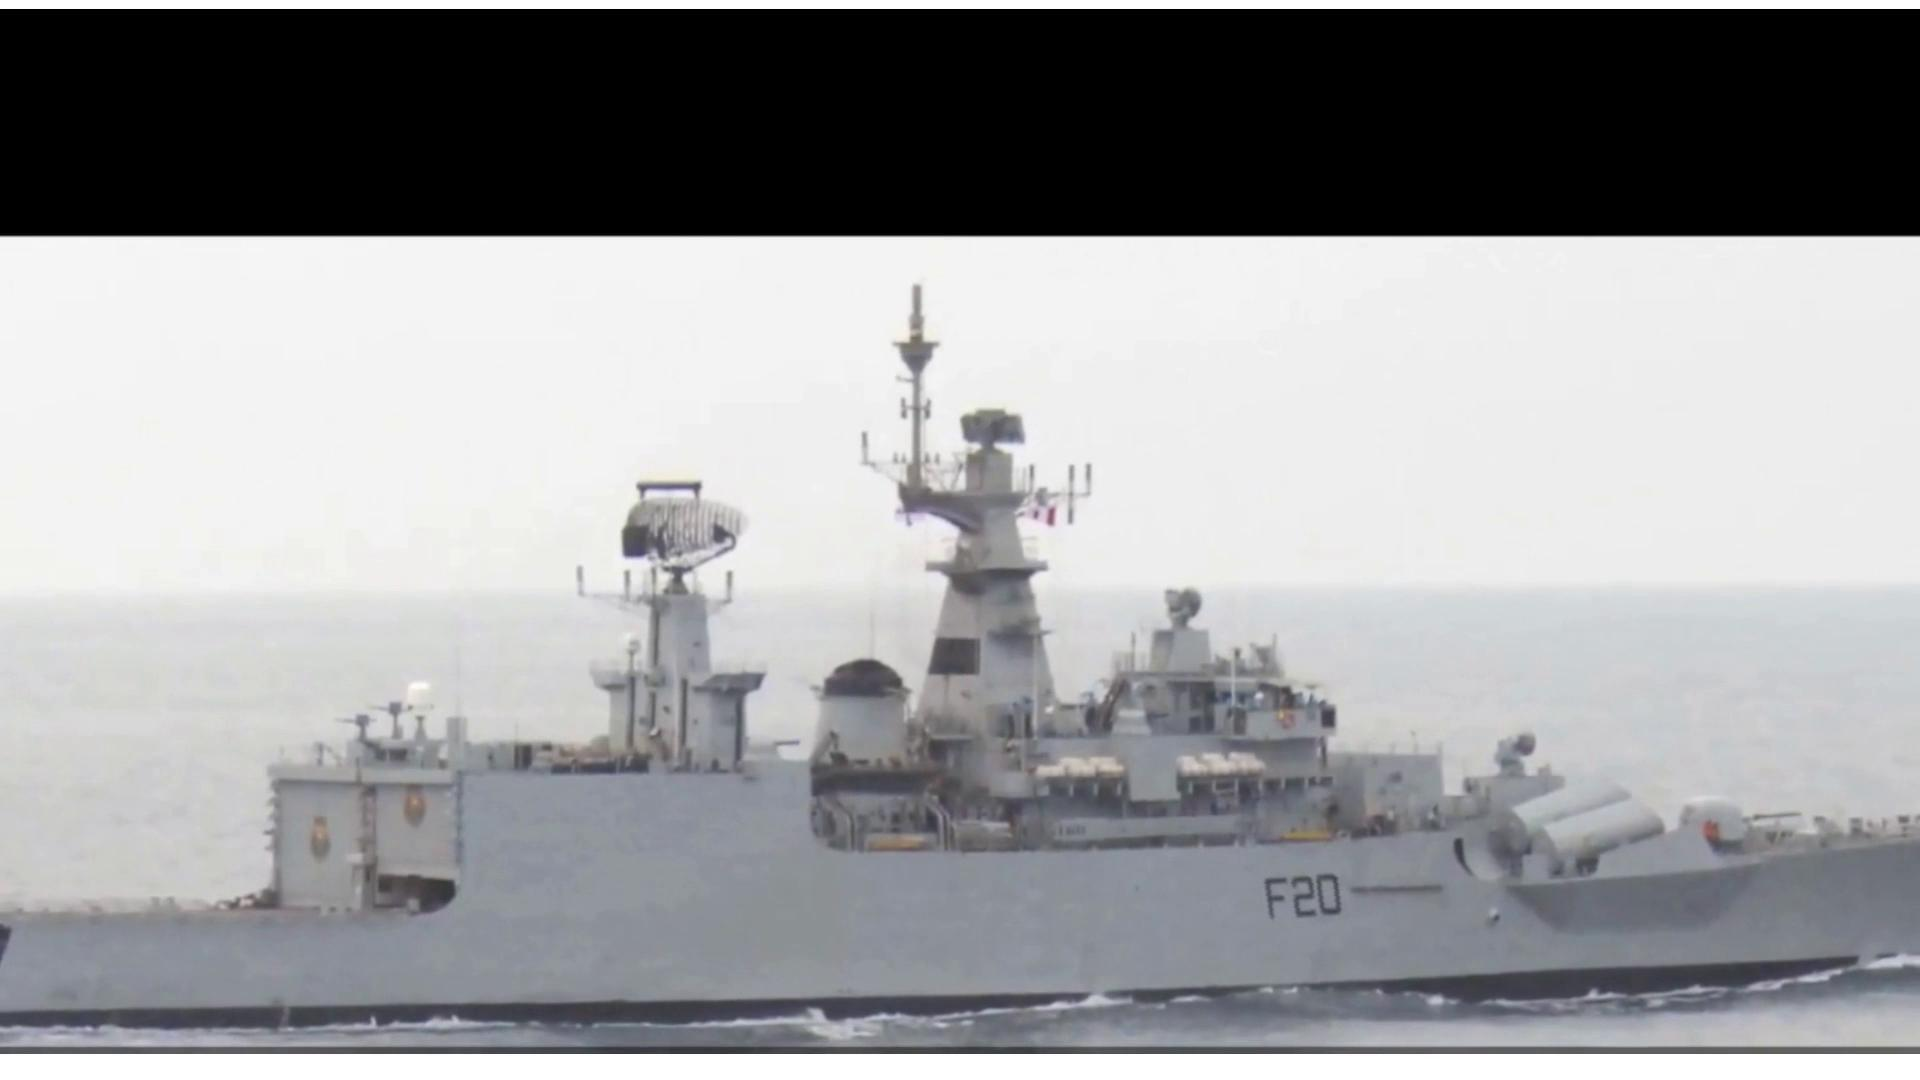OCR: (1242, 862, 1346, 932)
